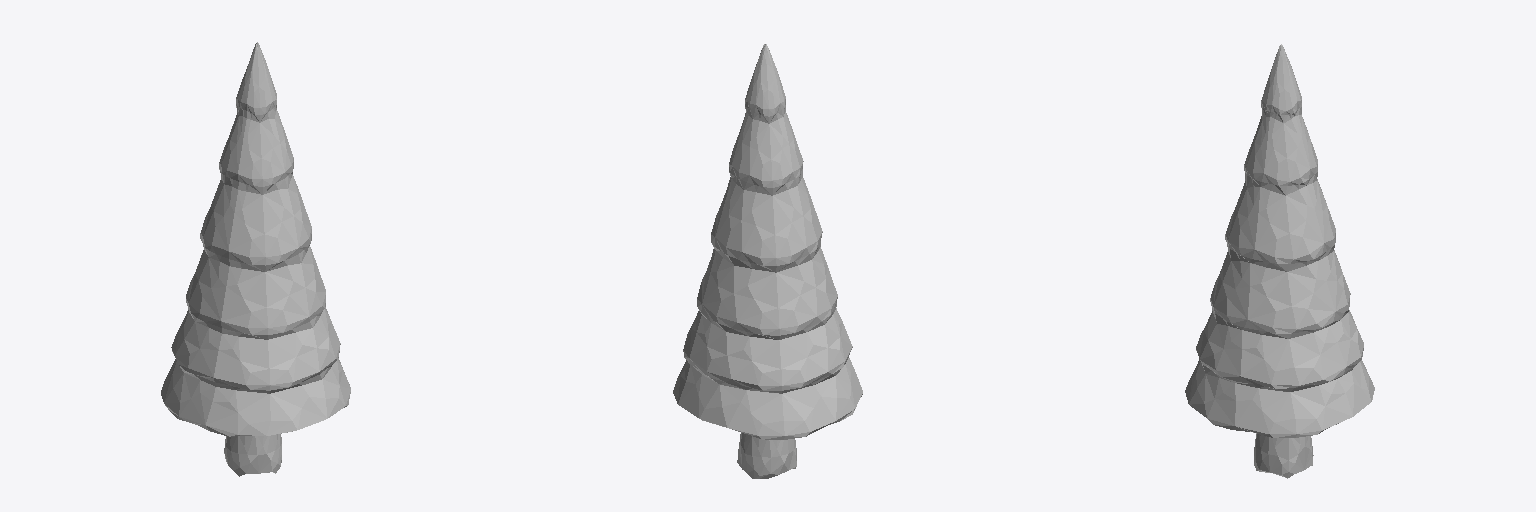
The model's file is middle_tree.obj.
3 renders of one model, left to right at view 1: azimuth 30°, elevation 25°; view 2: azimuth 150°, elevation 25°; view 3: azimuth 270°, elevation 25°, orthographic.
Visible parts, largest first — view 1: Cylinder; view 2: Cylinder; view 3: Cylinder.
Part boxes in pixels (bbox=[...]): Cylinder: bbox=[161, 42, 350, 476]; Cylinder: bbox=[673, 44, 862, 478]; Cylinder: bbox=[1185, 44, 1374, 478].
Bounding box in the file's own units: 2.07 × 5.11 × 2.07.